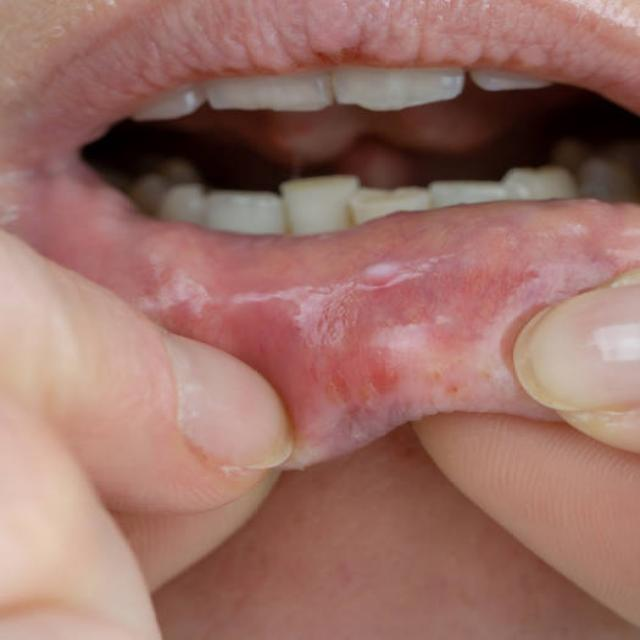processing_area: (3, 163, 629, 437)
ulcer-detection: (144, 215, 504, 410)
